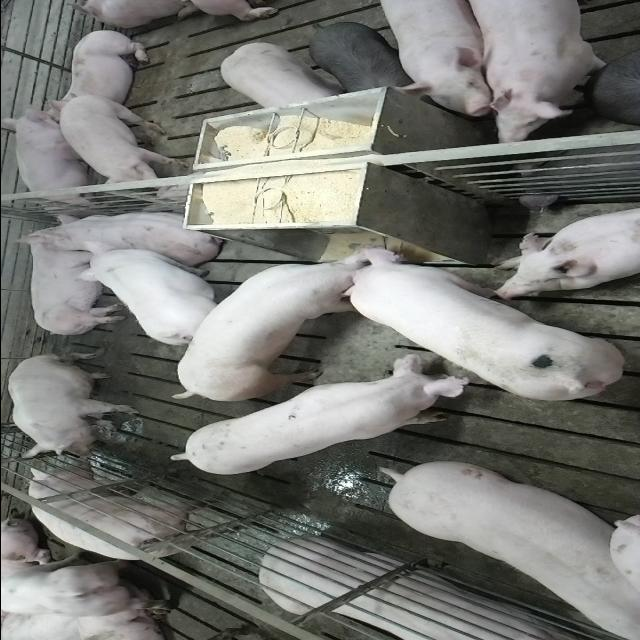Feeding: (342, 242, 625, 403), (166, 247, 387, 407)
Lateral_lying: (15, 225, 129, 338)
Sitting: (7, 354, 139, 462)
Standing: (375, 456, 635, 635), (165, 359, 471, 478), (456, 2, 616, 142), (26, 460, 237, 559), (74, 248, 236, 346), (371, 4, 497, 120), (59, 94, 184, 190), (306, 22, 422, 95), (218, 42, 342, 110), (0, 611, 172, 640)
Sternal_lying: (260, 540, 590, 640), (492, 203, 640, 295), (49, 27, 154, 116)
